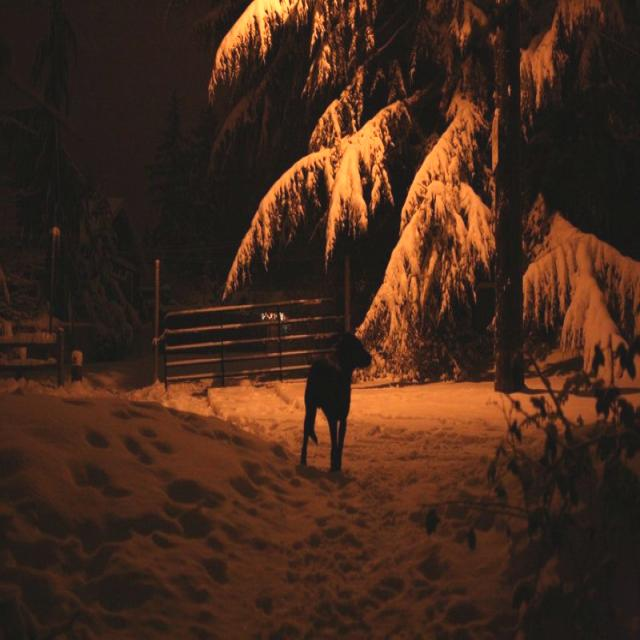Dog: (212, 184, 440, 504)
